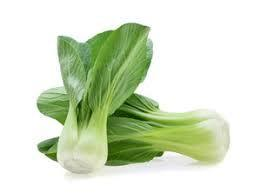Healthy-Pechay: (33, 24, 231, 177)
